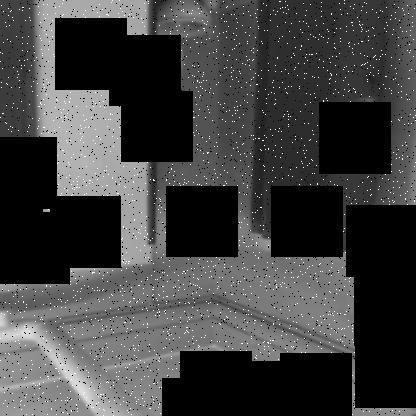Porte: (146, 1, 394, 257)
